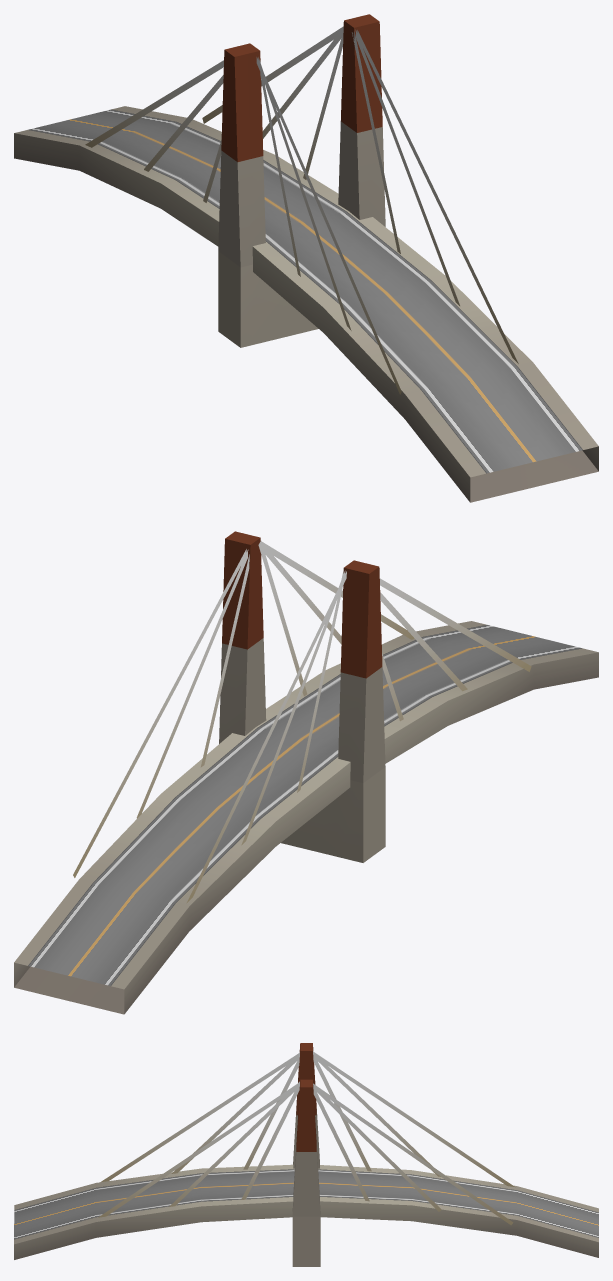
Rendered from SM_City_Bridge_01.fbx.
3 views of the same model, one above another, from view 1: azimuth 30°, elevation 25°; view 2: azimuth 150°, elevation 25°; view 3: azimuth 270°, elevation 25° (orthographic). The views are drawn at different scales.
Visible parts, largest first — view 1: SM_City_Bridge_01; view 2: SM_City_Bridge_01; view 3: SM_City_Bridge_01.
Boxes of the visible parts, x1=… form: SM_City_Bridge_01: x1=14, y1=14, x2=598, y2=502; SM_City_Bridge_01: x1=14, y1=531, x2=598, y2=1014; SM_City_Bridge_01: x1=14, y1=1043, x2=598, y2=1266.
Size of the model in its own units: 0.7074 by 1.33 by 3.94.
